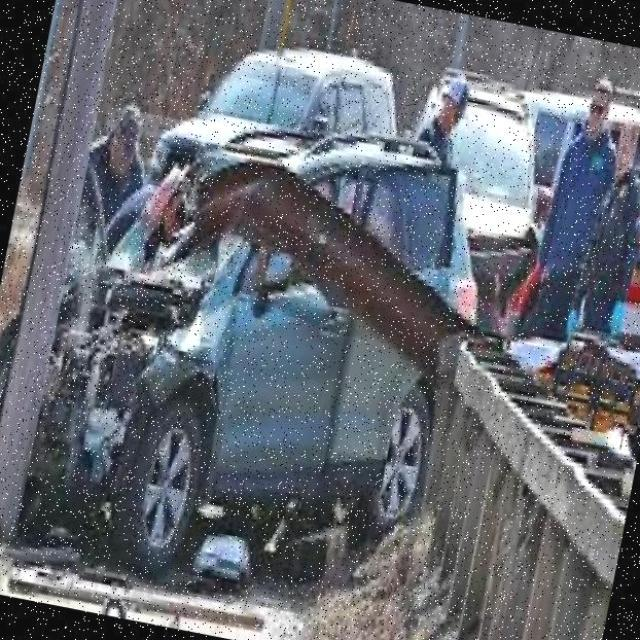accident: (0, 60, 527, 615)
